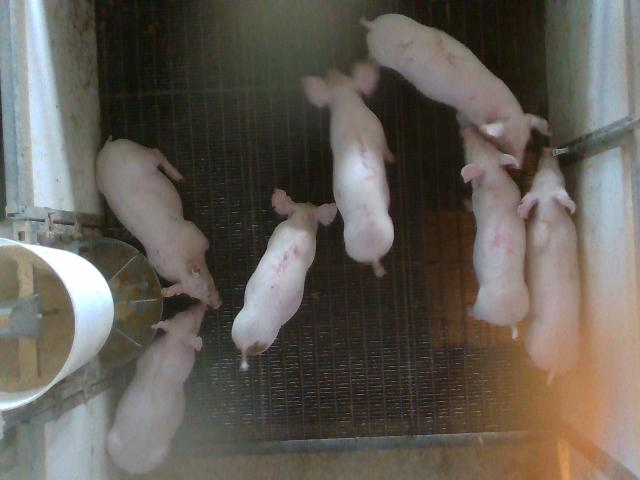pig-3: (301, 63, 394, 276)
pig-4: (461, 126, 529, 338)
pig-5: (231, 189, 338, 369)
